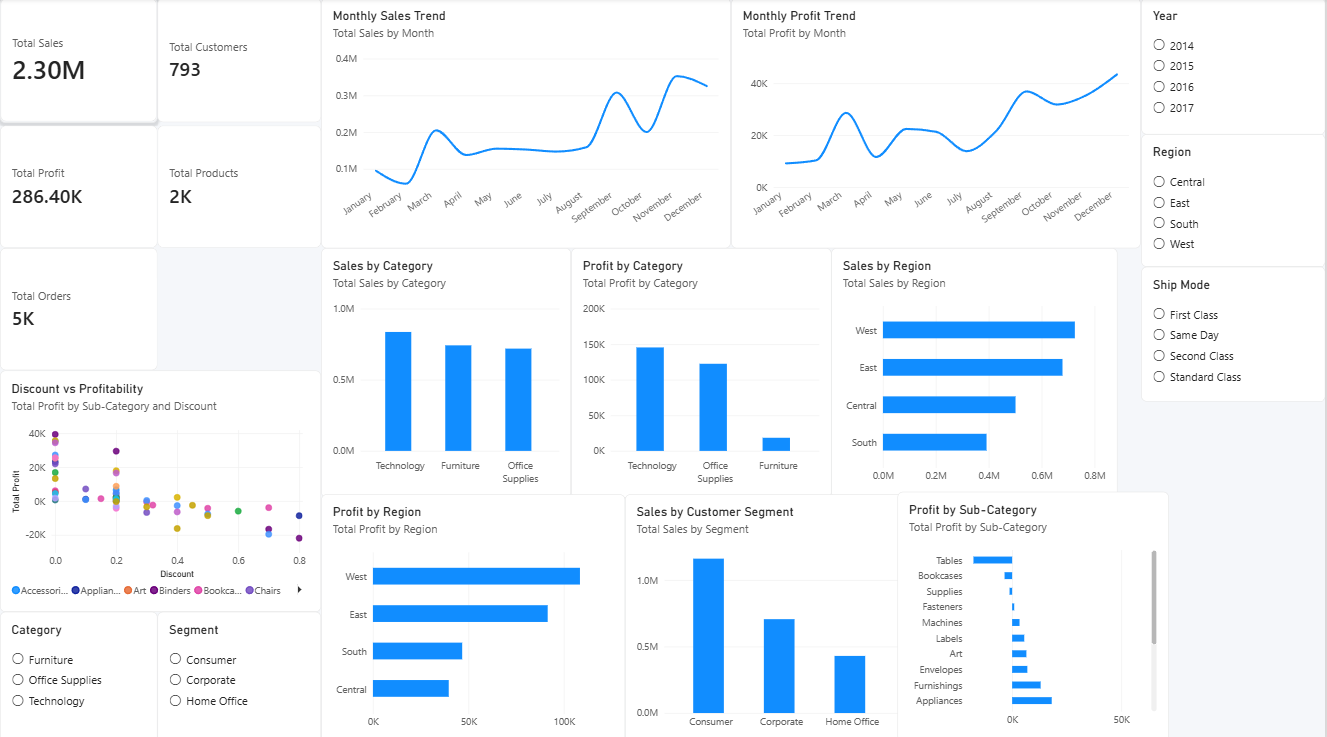

This screenshot's page, from the dashboard's own definition file:
{"tool":"powerbi","page":{"name":"Business Overview","canvas":[1920,1080],"ordinal":0},"visuals":[{"type":"cardVisual","fields":{"Data":["DateTable.Total Sales"]},"box":[0,0,228,181],"z":0},{"type":"cardVisual","fields":{"Data":["DateTable.Total Profit"]},"box":[0,184.6,228,177.3],"z":1},{"type":"cardVisual","fields":{"Data":["DateTable.Total Orders"]},"box":[0,361.9,228,177.3],"z":2},{"type":"cardVisual","fields":{"Data":["DateTable.Total Customers"]},"box":[228,0,237.1,181],"z":3},{"type":"cardVisual","fields":{"Data":["DateTable.Total Products"]},"box":[228,184.6,237.1,177.3],"z":4},{"type":"lineChart","title":"Monthly Sales Trend","fields":{"Category":["DateTable.Date.Variation.Date Hierarchy.Year","DateTable.Date.Variation.Date Hierarchy.Quarter","DateTable.Date.Variation.Date Hierarchy.Month","DateTable.Date.Variation.Date Hierarchy.Day"],"Y":["DateTable.Total Sales"]},"box":[465.1,0,592.8,362.3],"z":6},{"type":"lineChart","title":"Monthly Profit Trend","fields":{"Category":["DateTable.Date.Variation.Date Hierarchy.Year","DateTable.Date.Variation.Date Hierarchy.Quarter","DateTable.Date.Variation.Date Hierarchy.Month","DateTable.Date.Variation.Date Hierarchy.Day"],"Y":["DateTable.Total Profit"]},"box":[1058.7,0,593,362],"z":7},{"type":"clusteredColumnChart","title":"Sales by Category","fields":{"Category":["sales_cleaned.Category"],"Y":["DateTable.Total Sales"]},"box":[465.1,361.9,361.9,361.9],"z":8},{"type":"columnChart","title":"Profit by Category","fields":{"Category":["sales_cleaned.Category"],"Y":["DateTable.Total Profit"]},"box":[827,361.9,376.4,361.9],"z":9},{"type":"barChart","title":"Sales by Region","fields":{"Category":["sales_cleaned.Region"],"Y":["DateTable.Total Sales"]},"box":[1203.4,361.9,414.4,361.9],"z":10},{"type":"barChart","title":"Profit by Region","fields":{"Category":["sales_cleaned.Region"],"Y":["DateTable.Total Profit"]},"box":[465.1,718.4,439.7,361.9],"z":11},{"type":"clusteredColumnChart","title":"Sales by Customer Segment","fields":{"Category":["sales_cleaned.Segment"],"Y":["DateTable.Total Sales"]},"box":[904.8,718.4,412.6,361.9],"z":12},{"type":"barChart","title":"Profit by Sub-Category","fields":{"Category":["sales_cleaned.Sub-Category"],"Y":["DateTable.Total Profit"]},"box":[1299.3,714.8,392.7,361.9],"z":13},{"type":"scatterChart","title":"Discount vs Profitability","fields":{"Series":["sales_cleaned.Sub-Category"],"X":["sales_cleaned.Discount"],"Y":["DateTable.Total Profit"]},"box":[0,539.3,465.1,349.3],"z":14},{"type":"listSlicer","fields":{"Values":["DateTable.Year"]},"box":[1652.2,0,267.8,197.3],"z":15},{"type":"listSlicer","fields":{"Values":["sales_cleaned.Region"]},"box":[1652.2,197.3,267.8,191.8],"z":16},{"type":"listSlicer","fields":{"Values":["sales_cleaned.Category"]},"box":[0,888.5,228,191.8],"z":17},{"type":"listSlicer","fields":{"Values":["sales_cleaned.Segment"]},"box":[228,888.5,237.1,191.8],"z":18},{"type":"listSlicer","fields":{"Values":["sales_cleaned.Ship Mode"]},"box":[1652.2,389.1,267.8,195.4],"z":19}]}

Visuals, with their boxes in screenshot pixels (x1, y1, x2, y2), scaled from the page's 1920x1080 canvas onto the 1327x737 screenshot:
cardVisual - DateTable.Total Sales: 0,0,158,124
cardVisual - DateTable.Total Profit: 0,126,158,247
cardVisual - DateTable.Total Orders: 0,247,158,368
cardVisual - DateTable.Total Customers: 158,0,321,124
cardVisual - DateTable.Total Products: 158,126,321,247
"Monthly Sales Trend" lineChart: 321,0,731,247
"Monthly Profit Trend" lineChart: 732,0,1142,247
"Sales by Category" clusteredColumnChart: 321,247,572,494
"Profit by Category" columnChart: 572,247,832,494
"Sales by Region" barChart: 832,247,1118,494
"Profit by Region" barChart: 321,490,625,736
"Sales by Customer Segment" clusteredColumnChart: 625,490,911,736
"Profit by Sub-Category" barChart: 898,488,1169,735
"Discount vs Profitability" scatterChart: 0,368,321,606
listSlicer - DateTable.Year: 1142,0,1326,135
listSlicer - sales_cleaned.Region: 1142,135,1326,266
listSlicer - sales_cleaned.Category: 0,606,158,736
listSlicer - sales_cleaned.Segment: 158,606,321,736
listSlicer - sales_cleaned.Ship Mode: 1142,266,1326,399
